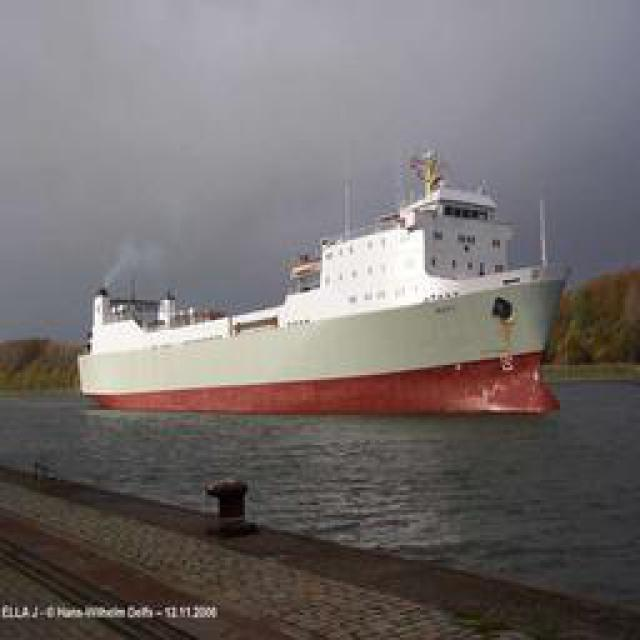Ship: (81, 144, 579, 427)
